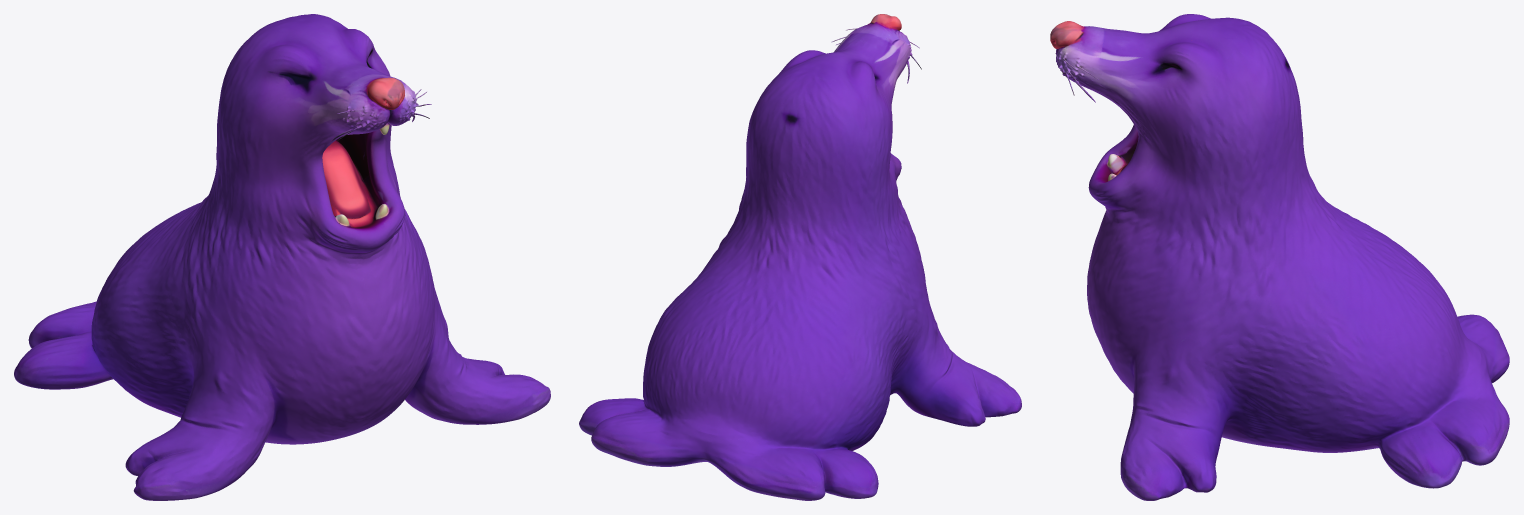
Rendered from 3d_yelp.glb.
The picture shows the model from 3 angles, left to right: view 1: azimuth 30°, elevation 25°; view 2: azimuth 150°, elevation 25°; view 3: azimuth 270°, elevation 25°; orthographic projection. The views are drawn at different scales.
Size of the model in its own units: 1.88 by 1.79 by 1.9.
Materials: 1 (1 with a texture image).
